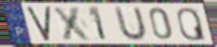0: (148, 6, 176, 43)
1: (88, 5, 108, 43)
Q: (176, 6, 208, 42)
U: (114, 5, 148, 43)
V: (25, 5, 52, 42)
X: (51, 6, 95, 42)
